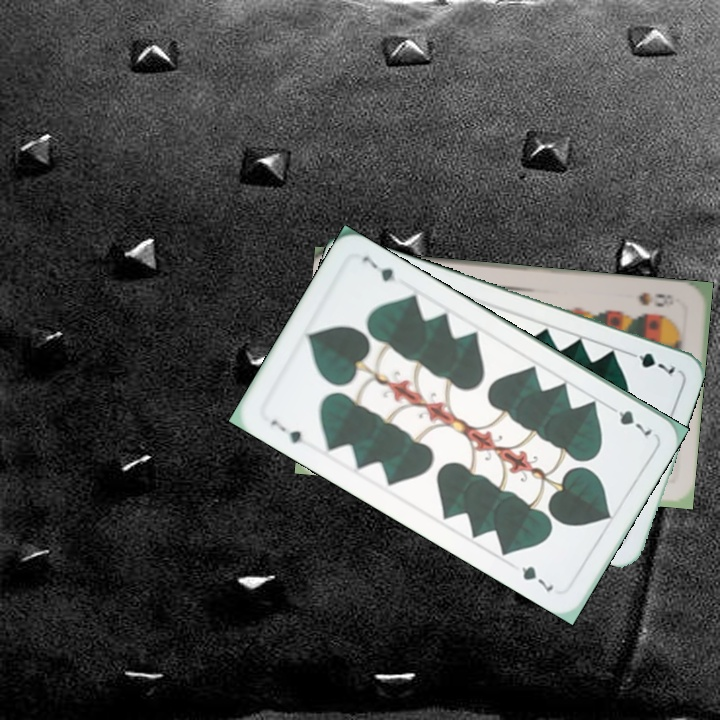G7: (603, 400, 655, 439), (622, 346, 678, 379), (266, 415, 305, 446)
S8: (634, 288, 676, 310)
